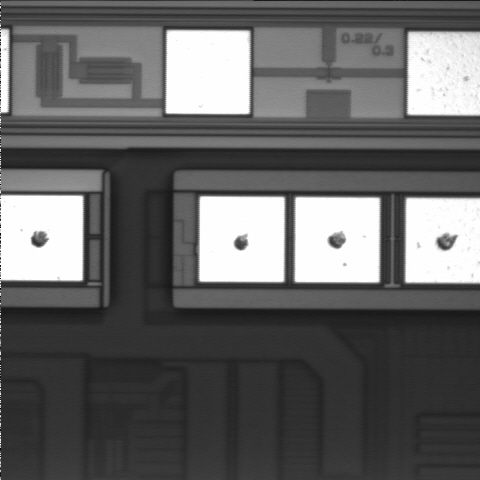pad: (199, 197, 284, 282), (295, 197, 380, 282), (166, 30, 250, 114)
